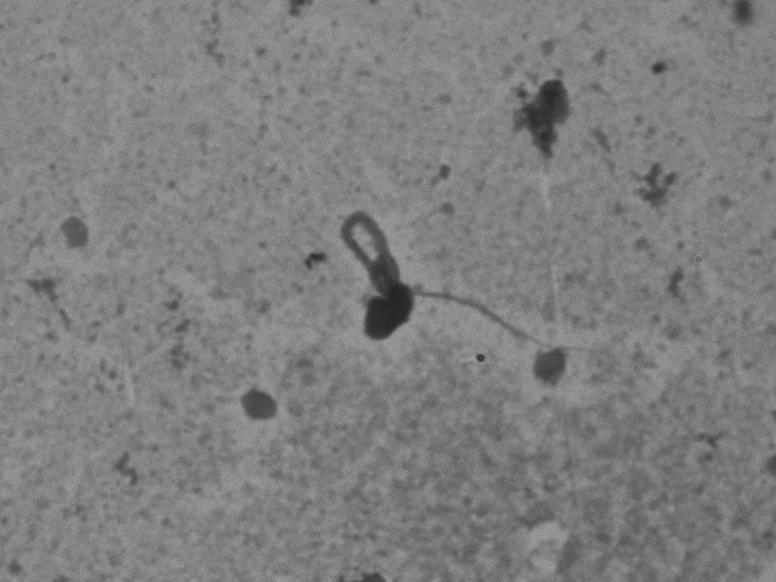Abnormal: (302, 206, 668, 383)
